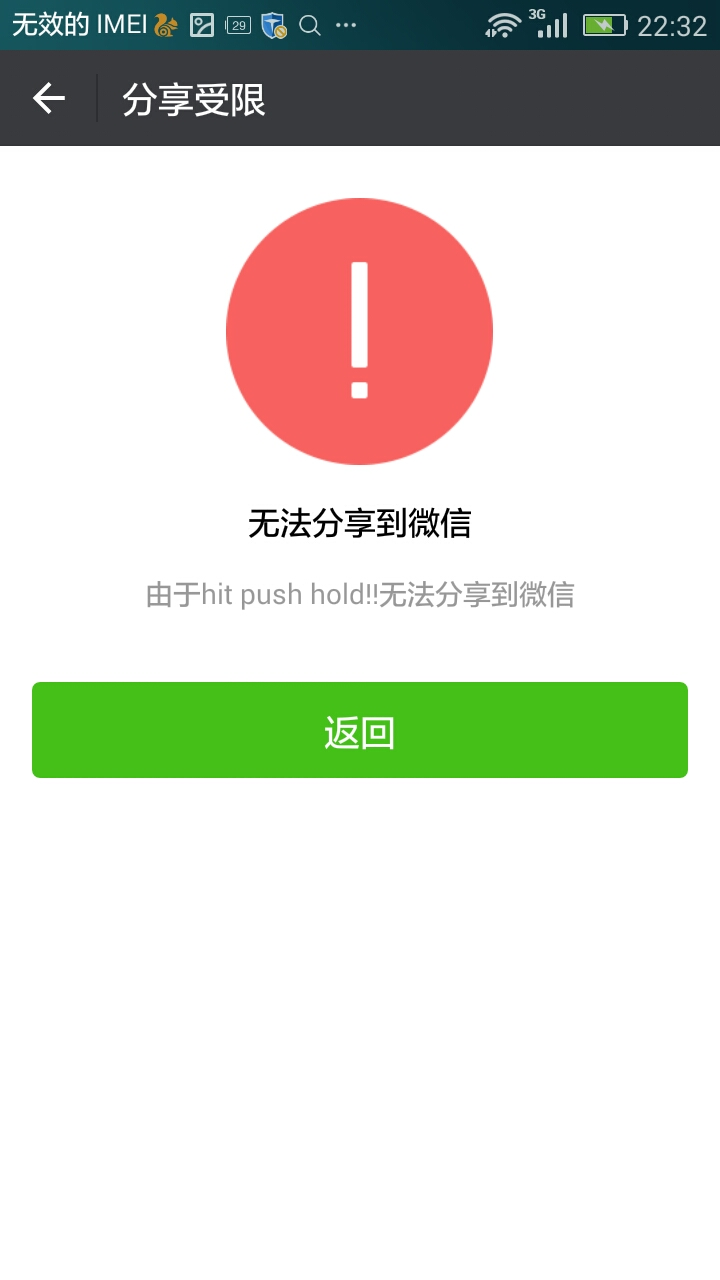button: (28, 672, 695, 787)
imgview: (210, 192, 505, 473)
textview: (120, 550, 586, 634)
